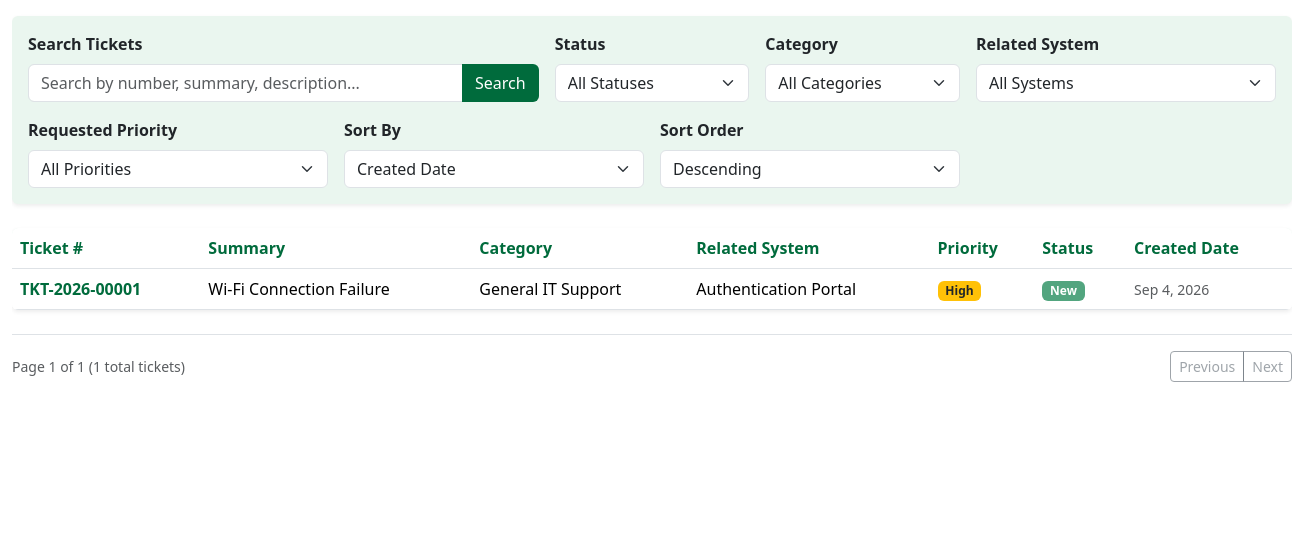
Test case: MyTickets Component (Issue #14) › AC-17 vs AC-18: General Empty vs Distinct No-Results States › AC-18: displays distinct no-results state with Clear Filters button when search/filter returns zero matches
Expected: the text "TKT-2026-00001" is shown, [12,268,200,310]
# Perform a search query
Type "nonexistent" into the field labelled "Search Tickets". click: (246, 83)
box: [28,64,463,102]
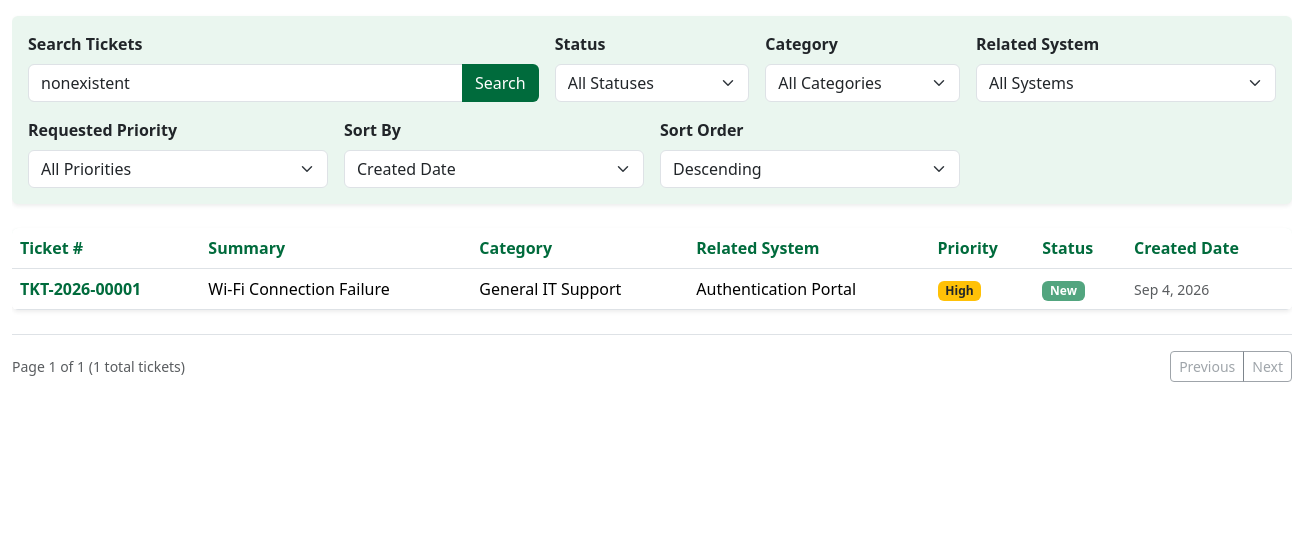
Click the button "Search". click: (500, 83)
box: [462,64,539,102]
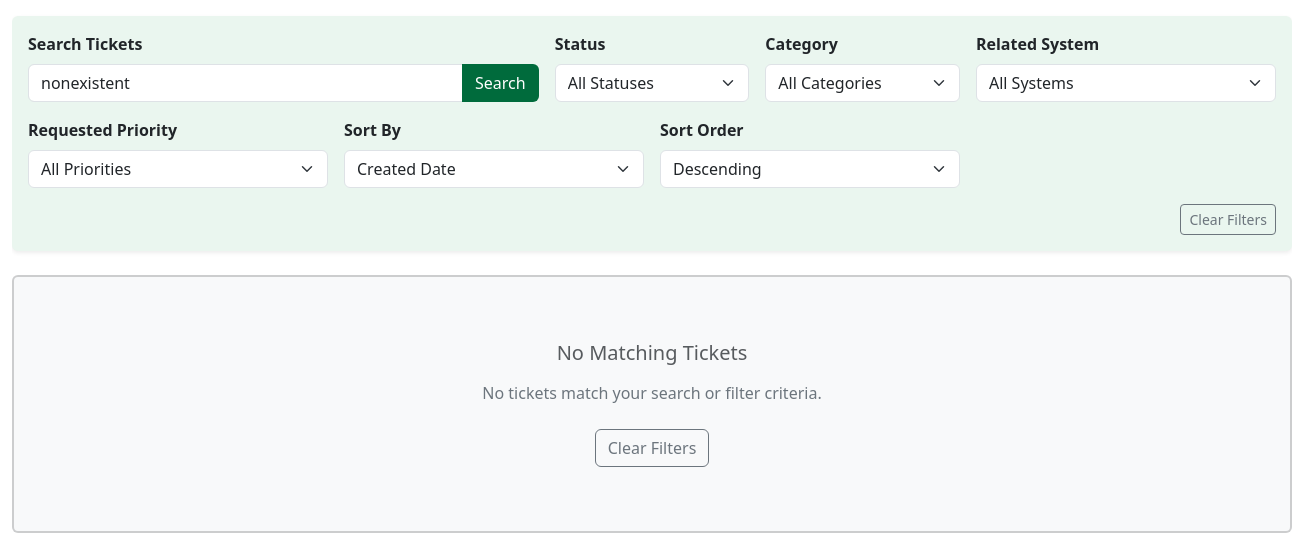
Now the text "No tickets match your search or filter criteria." is shown, box [482,382,822,404]
Now the button "Clear Filters" below "Related System" is shown
Click the button "Clear Filters" below "Related System". click: (1228, 220)
box: [1180,204,1276,235]
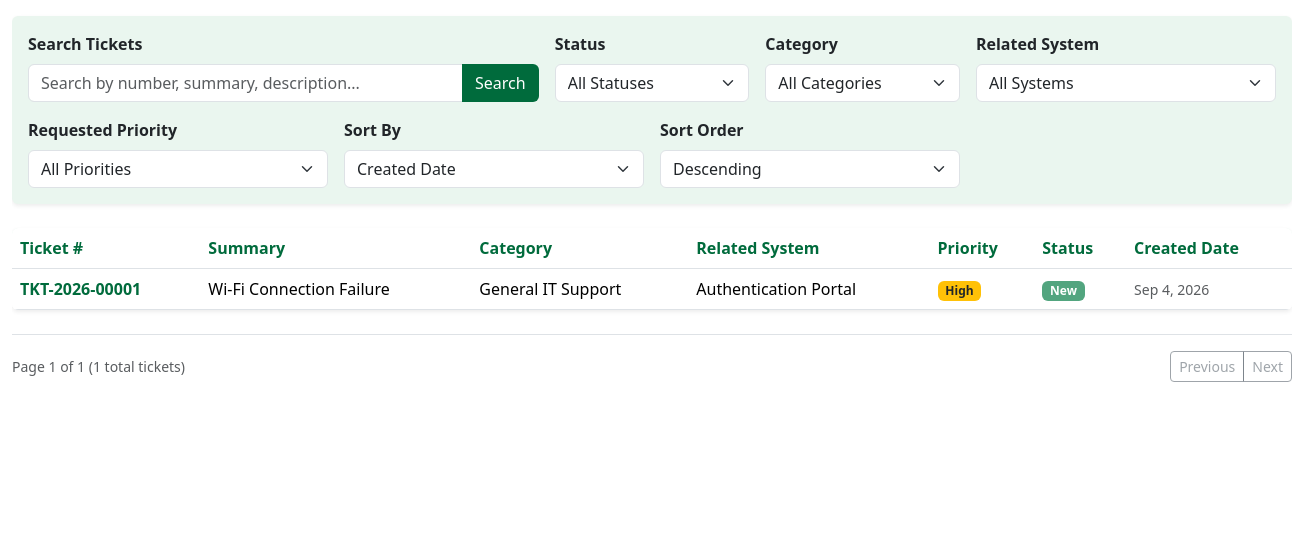
Now the text "TKT-2026-00001" is shown, box [12,268,200,310]
